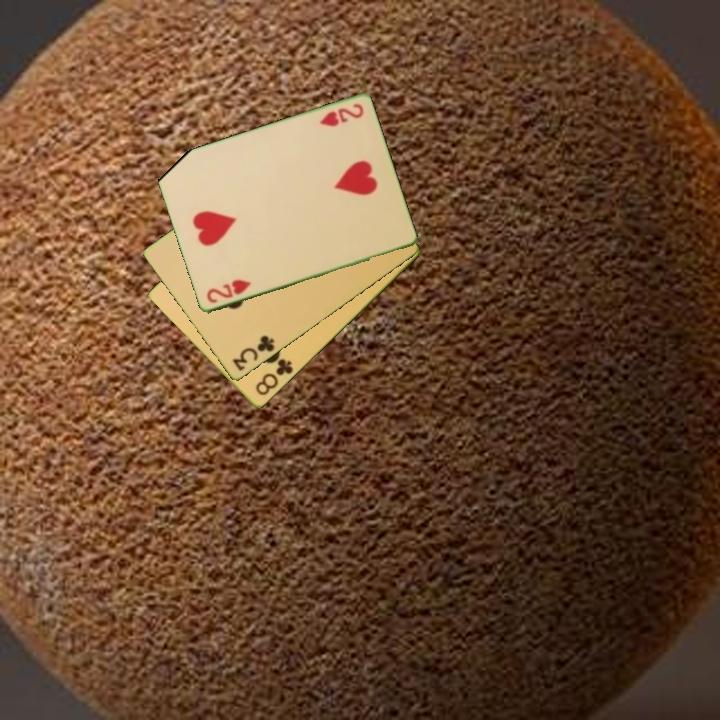2h: (203, 276, 254, 306), (316, 100, 366, 130)
3c: (229, 332, 278, 374)
8c: (252, 355, 296, 399)
